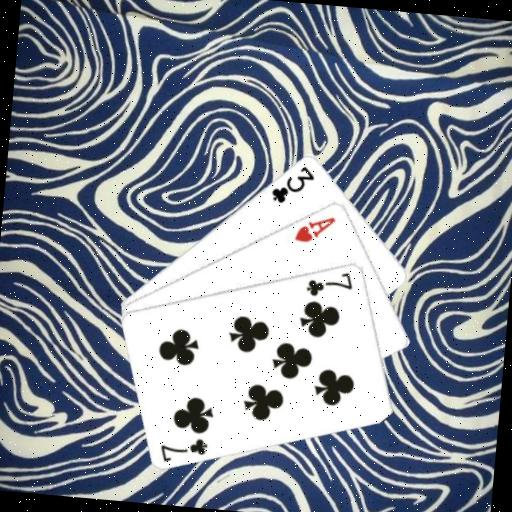3C: (267, 160, 318, 208)
7C: (156, 431, 211, 467), (303, 265, 356, 301)
AH: (291, 211, 338, 247)
